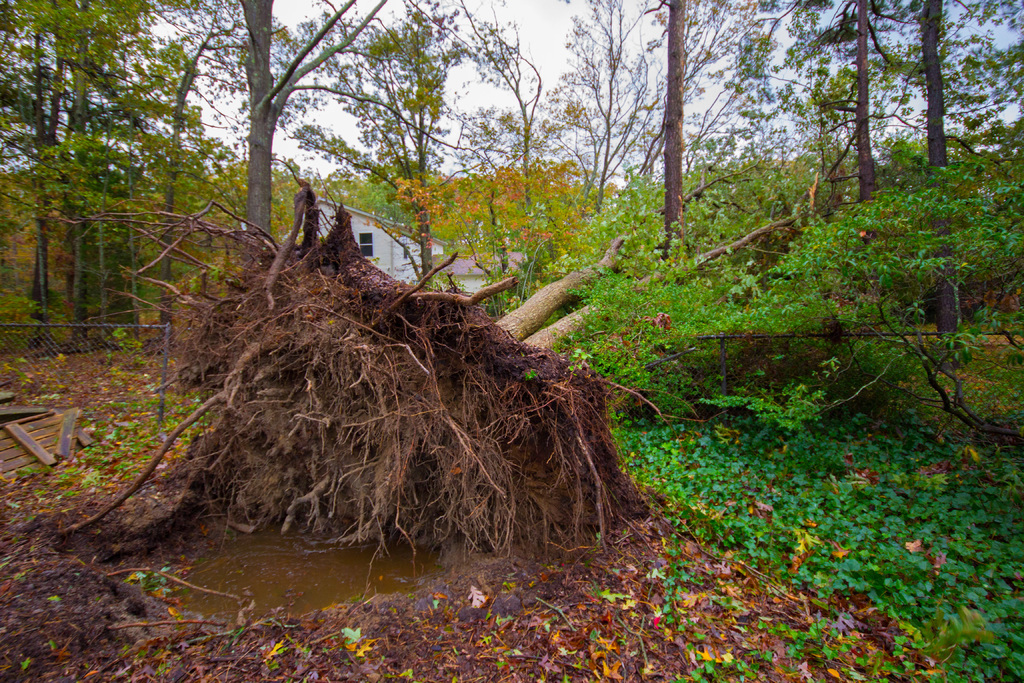Tree: (0, 0, 1023, 616)
